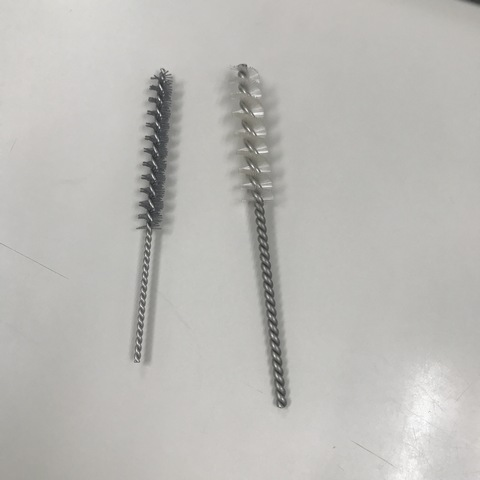Twist Brush-A: (129, 61, 176, 368)
Twist Brush-B: (225, 54, 302, 412)
